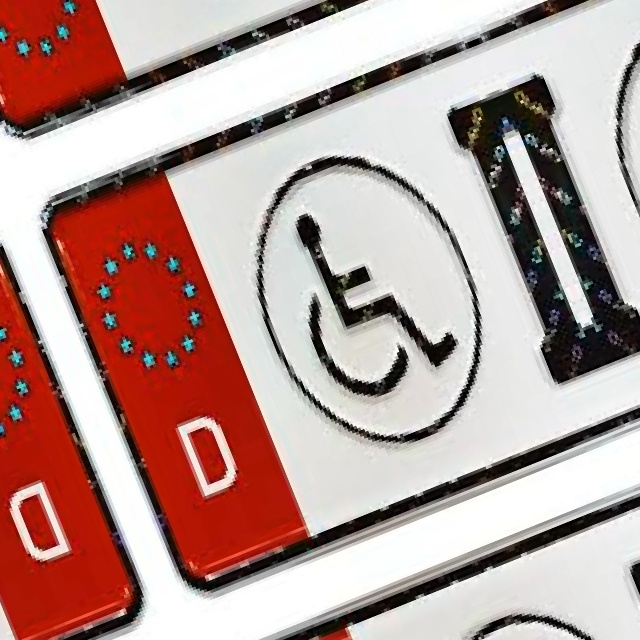ISA: (266, 179, 466, 414), (627, 33, 640, 268)
